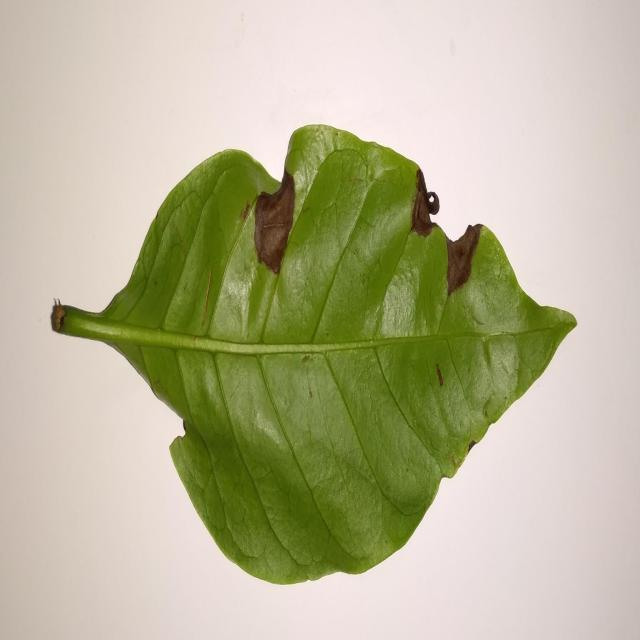Enfermedad-Antracnosis: (48, 125, 578, 588)
